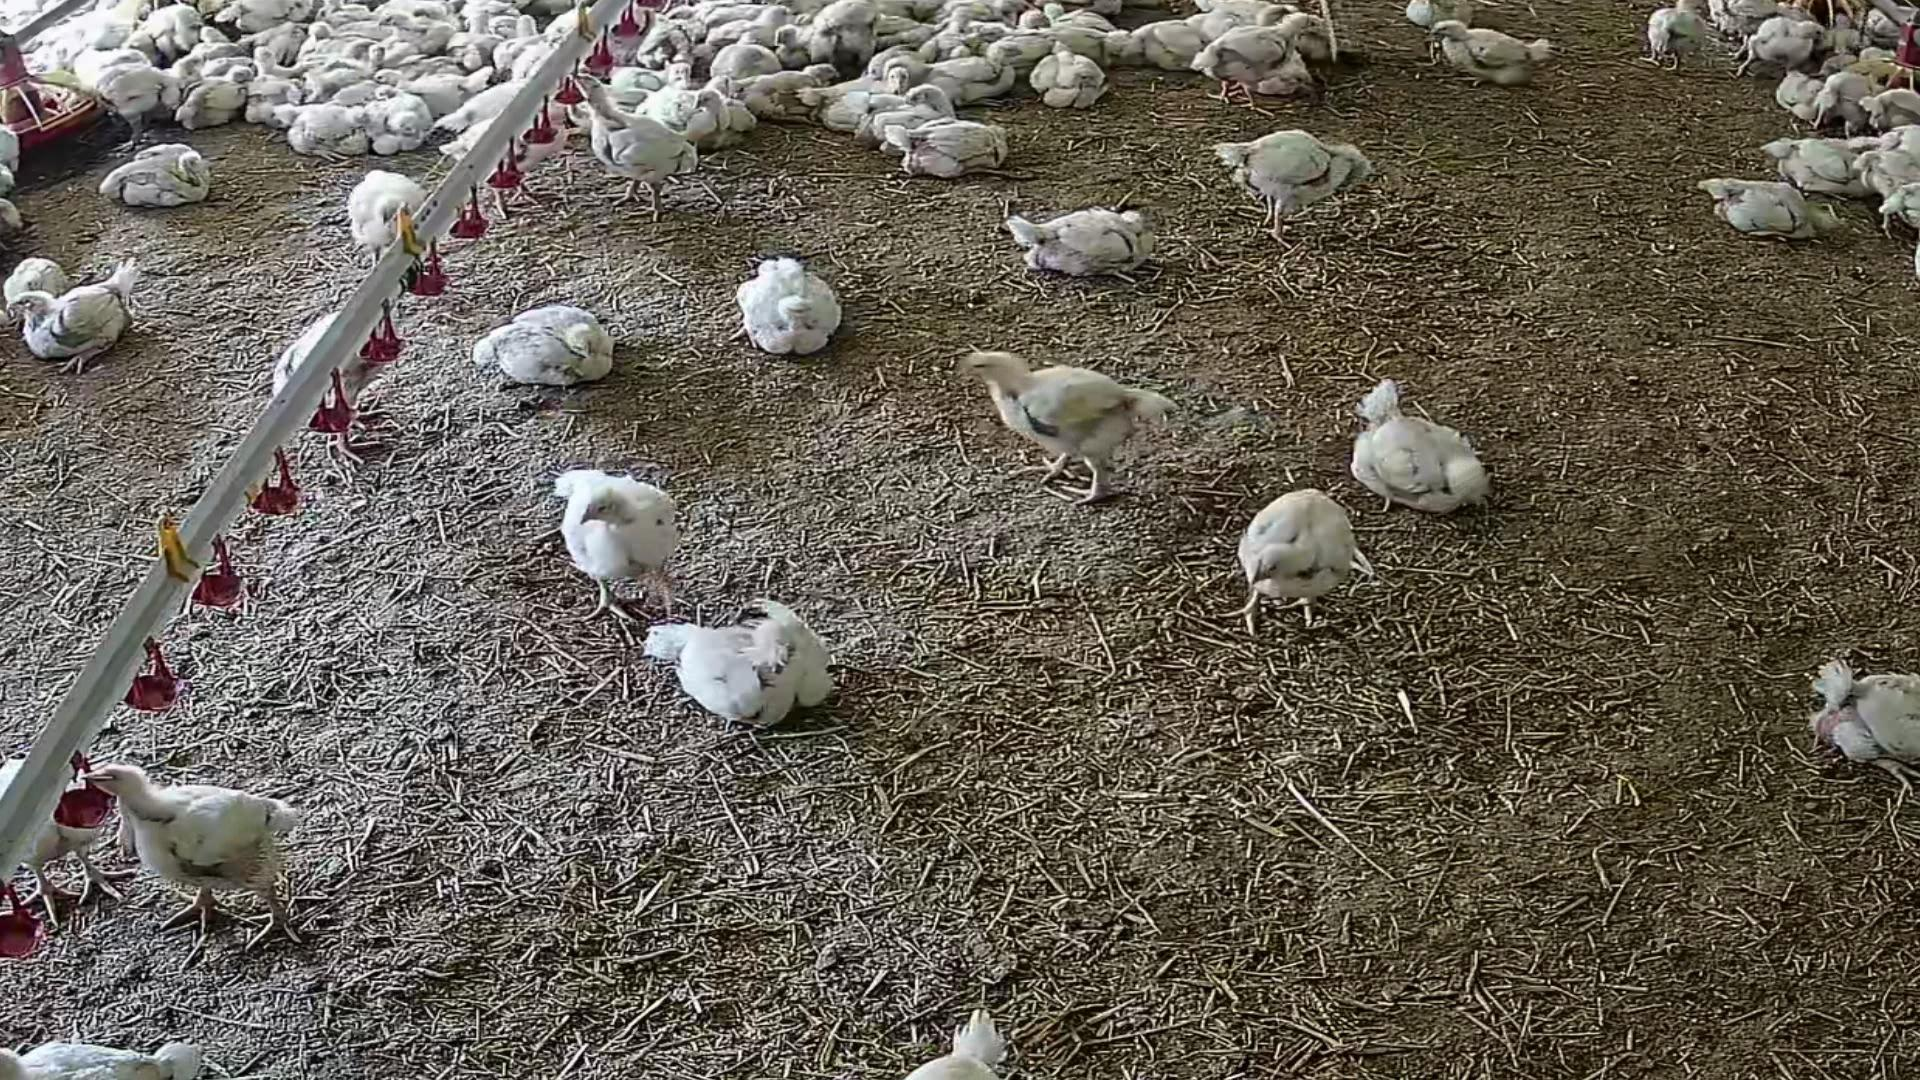poussin: (61, 745, 330, 982), (622, 568, 860, 765), (959, 323, 1192, 509), (1313, 345, 1516, 538), (1192, 483, 1390, 665), (513, 443, 696, 625), (454, 284, 651, 429), (239, 295, 404, 450), (563, 70, 696, 222), (1204, 123, 1374, 241), (731, 247, 887, 375), (994, 207, 1164, 291), (1808, 640, 1920, 765), (1687, 165, 1830, 262), (1196, 11, 1356, 95), (20, 289, 152, 381), (96, 42, 206, 138), (1424, 9, 1552, 87), (640, 71, 757, 148), (127, 131, 227, 218), (1627, 0, 1722, 91), (1135, 7, 1238, 90), (891, 119, 1019, 185), (1022, 44, 1127, 120), (1763, 128, 1865, 198), (1859, 132, 1920, 240), (928, 24, 1017, 98), (736, 54, 836, 117), (295, 103, 388, 171), (340, 170, 427, 237), (1742, 12, 1820, 73), (7, 248, 70, 320), (365, 83, 434, 149), (189, 70, 260, 133), (704, 29, 781, 87), (488, 20, 553, 83), (385, 66, 481, 108), (306, 15, 375, 66), (872, 83, 959, 123), (1775, 70, 1829, 133), (1044, 0, 1127, 38), (832, 70, 922, 100), (735, 1, 794, 45), (781, 26, 836, 70), (248, 42, 303, 86), (1021, 5, 1071, 50), (364, 34, 396, 66)
